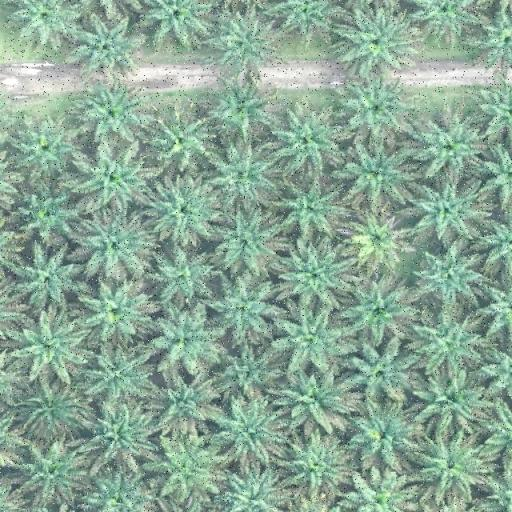Ganoderma: (353, 219, 404, 261)
